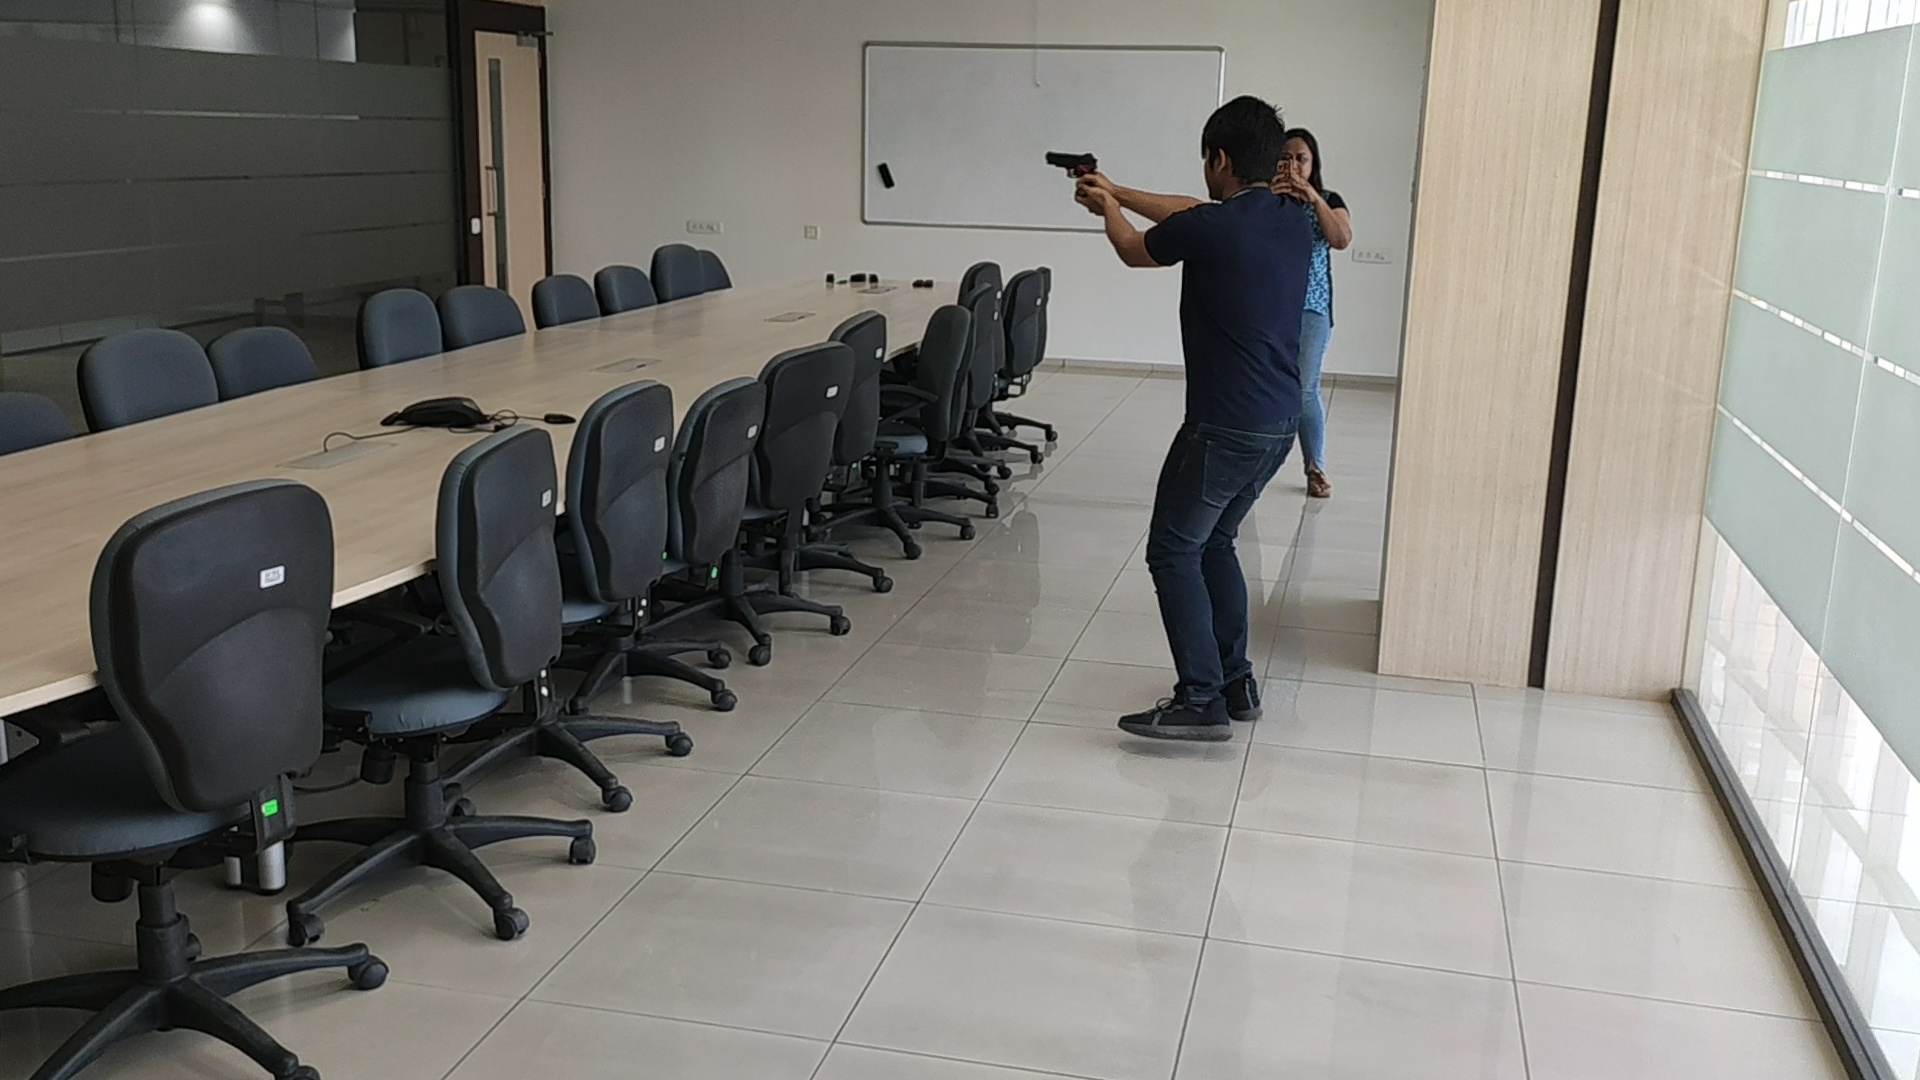gun: (1042, 146, 1098, 179)
